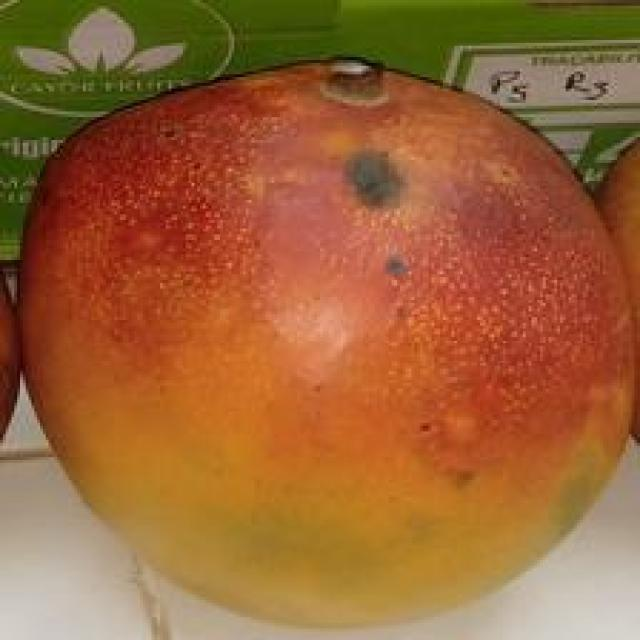Mango: (7, 65, 636, 590)
